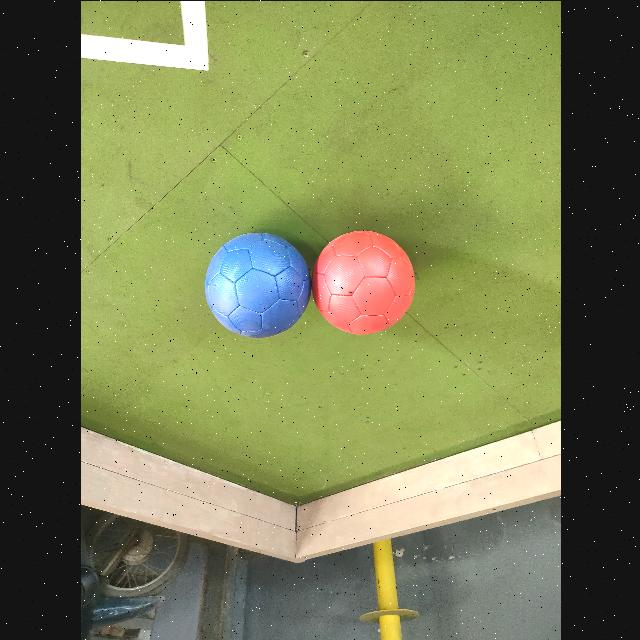B: (203, 232, 309, 337)
R: (312, 229, 414, 333)
